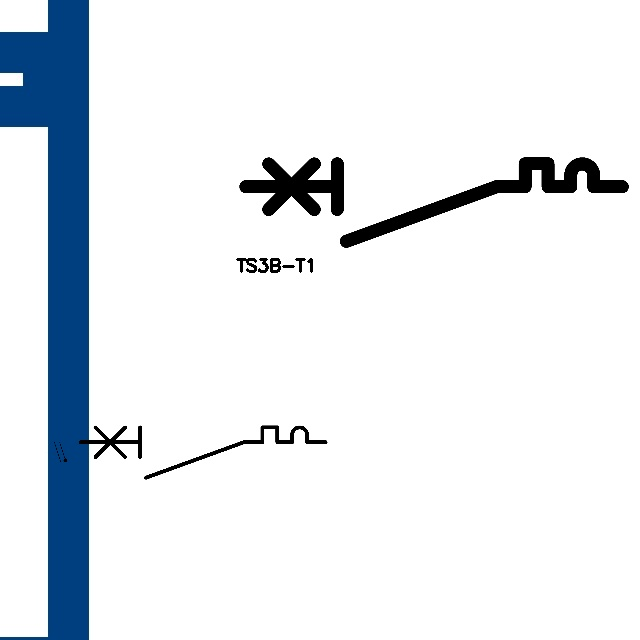interruptor_termomagnetico: (236, 154, 632, 251), (74, 421, 332, 484)
